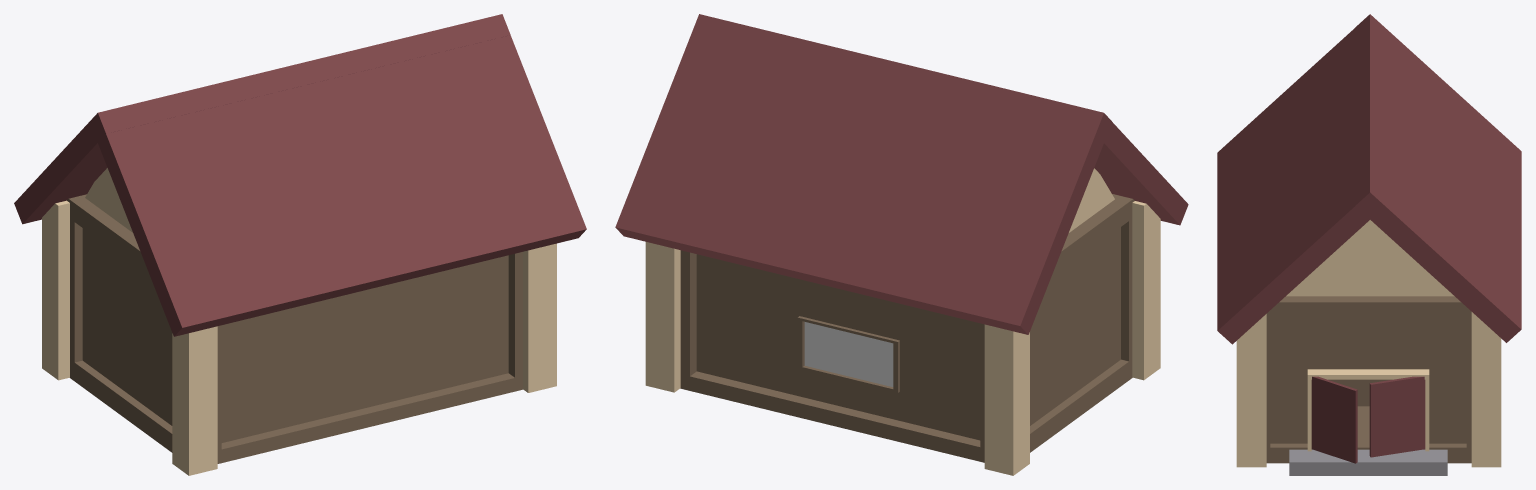
File: farmhouse.fbx
The picture shows the model from 3 angles, left to right: view 1: azimuth 30°, elevation 25°; view 2: azimuth 150°, elevation 25°; view 3: azimuth 270°, elevation 25°; orthographic projection. The views are drawn at different scales.
Parts seen in each view (by area): view 1: Cube.006, Cube, Cube.007, Cube.003, Cube.002, Cube.004, Plane.001; view 2: Cube.007, Cube, Cube.004, Cube.001, Cube.003, Cube.006, Plane.001; view 3: Cube.007, Cube.006, Cube, Plane, Cube.001, Cube.002, Cube.010, Cube.009, Cube.008, Cube.005.
Boxes of the visible parts, x1=… form: Cube.006: x1=91, y1=35, x2=586, y2=336; Cube: x1=67, y1=194, x2=522, y2=463; Cube.007: x1=14, y1=14, x2=510, y2=224; Cube.003: x1=172, y1=326, x2=217, y2=475; Cube.002: x1=523, y1=243, x2=556, y2=392; Cube.004: x1=42, y1=200, x2=69, y2=380; Plane.001: x1=85, y1=168, x2=132, y2=232; Cube.007: x1=615, y1=14, x2=1111, y2=334; Cube: x1=680, y1=194, x2=1134, y2=462; Cube.004: x1=984, y1=324, x2=1029, y2=475; Cube.001: x1=645, y1=242, x2=680, y2=392; Cube.003: x1=1132, y1=201, x2=1160, y2=380; Cube.006: x1=1094, y1=114, x2=1188, y2=225; Plane.001: x1=1069, y1=168, x2=1114, y2=232; Cube.007: x1=1355, y1=14, x2=1521, y2=342; Cube.006: x1=1217, y1=28, x2=1383, y2=344; Cube: x1=1266, y1=296, x2=1471, y2=463; Plane: x1=1286, y1=220, x2=1454, y2=296; Cube.001: x1=1471, y1=312, x2=1501, y2=467; Cube.002: x1=1236, y1=314, x2=1266, y2=467; Cube.010: x1=1369, y1=376, x2=1425, y2=457; Cube.009: x1=1289, y1=449, x2=1447, y2=475; Cube.008: x1=1311, y1=376, x2=1357, y2=463; Cube.005: x1=1307, y1=369, x2=1429, y2=451.
Bounding box in the file's own units: 707 × 515 × 500.
